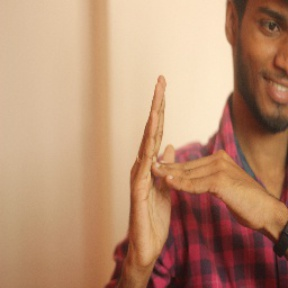Z: (116, 71, 264, 262)
